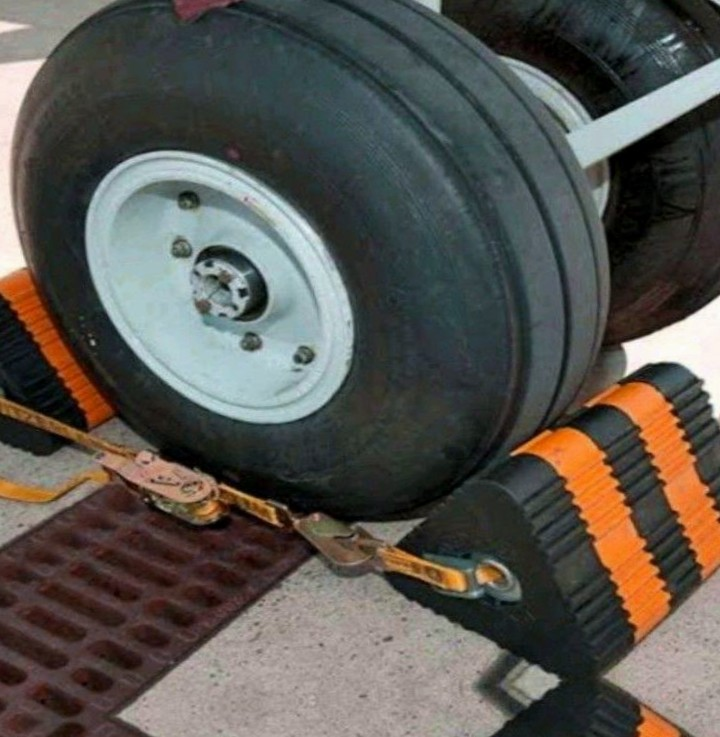chock: (364, 355, 720, 695), (0, 253, 164, 467)
wheel: (0, 0, 615, 537), (438, 0, 720, 347)
